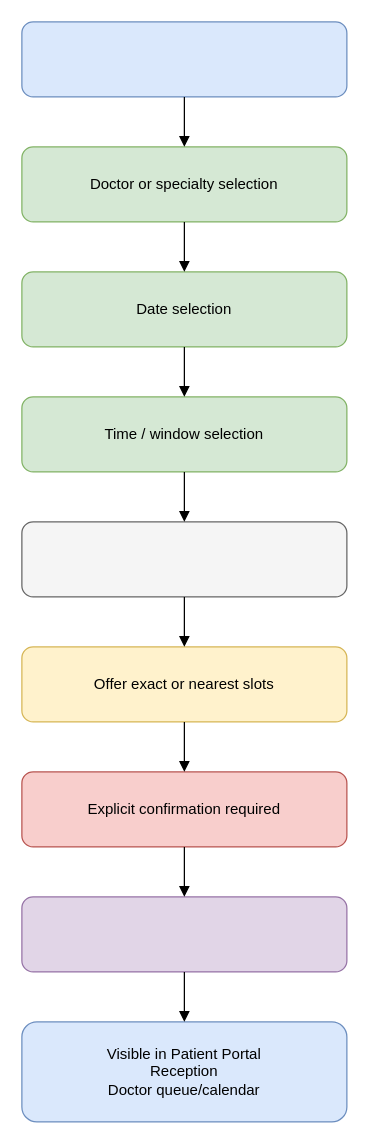
This 369x1144 diagram has some shape labels left out. The box of each missing label's shape, as (x1, y1, x2, y2) in pixels:
Deterministic action execution: (21, 896, 347, 972)
Deterministic slot lookup: (21, 521, 347, 597)
Intent: Book / Reschedule / Cancel / Status: (21, 21, 347, 97)
